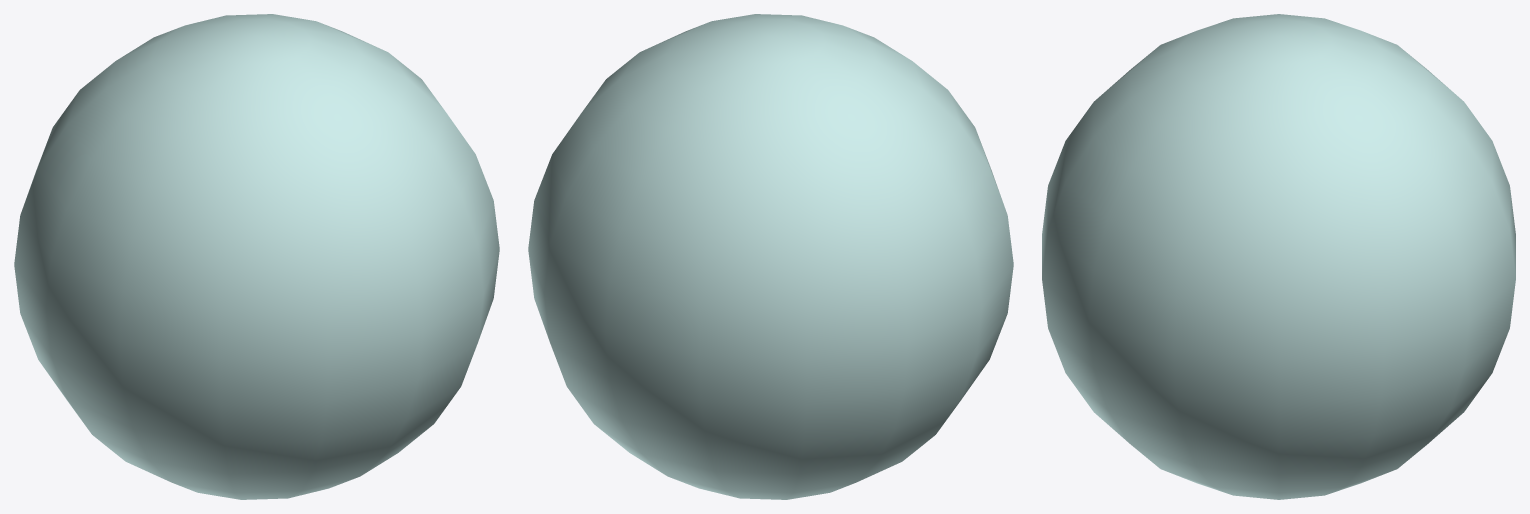
Rendered from bolla.fbx.
The picture shows the model from 3 angles, left to right: view 1: azimuth 30°, elevation 25°; view 2: azimuth 150°, elevation 25°; view 3: azimuth 270°, elevation 25°; orthographic projection.
Parts seen in each view (by area): view 1: pSphere4; view 2: pSphere4; view 3: pSphere4.
Boxes of the visible parts, x1,y1,x2,y2 form: pSphere4: (14, 14, 499, 499); pSphere4: (528, 14, 1013, 499); pSphere4: (1042, 14, 1515, 499).
Size of the model in its own units: 2 by 2 by 1.95.
